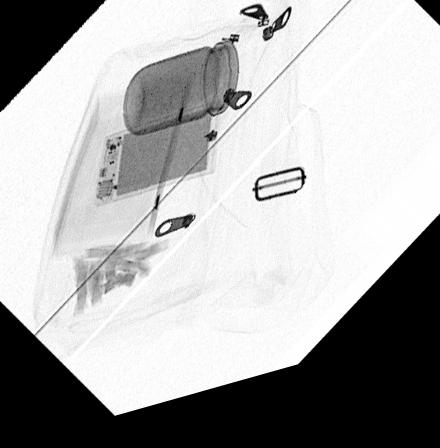Powerbank: (91, 115, 217, 212)
